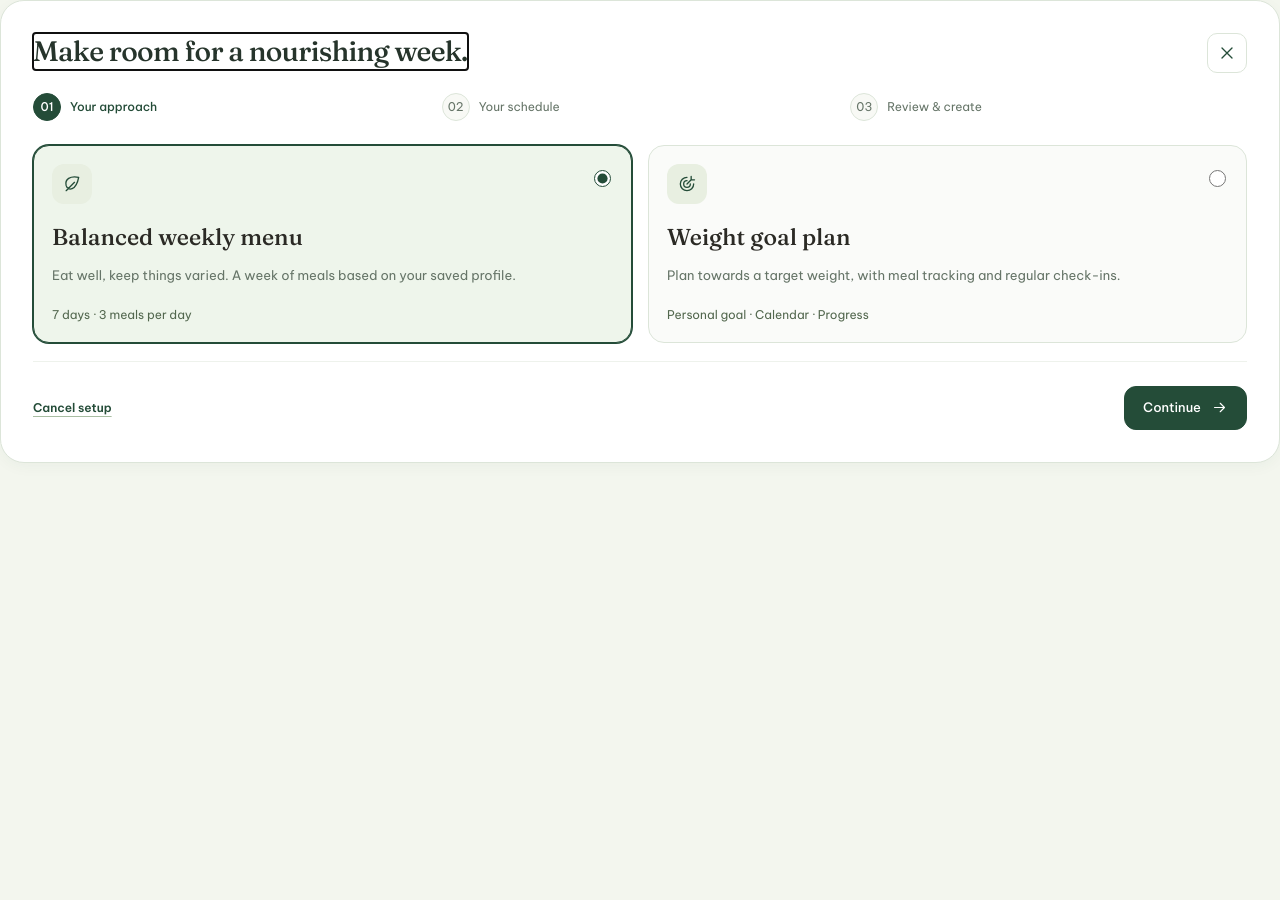
Test: PlanSetupFlow - Validation & TDEE UX (Phase 4) › 3. Continue is disabled and submit is blocked when form data is invalid
Later steps or results of the test are not shown.
Submit the form, box x1=33 y1=145 x2=1247 y2=430
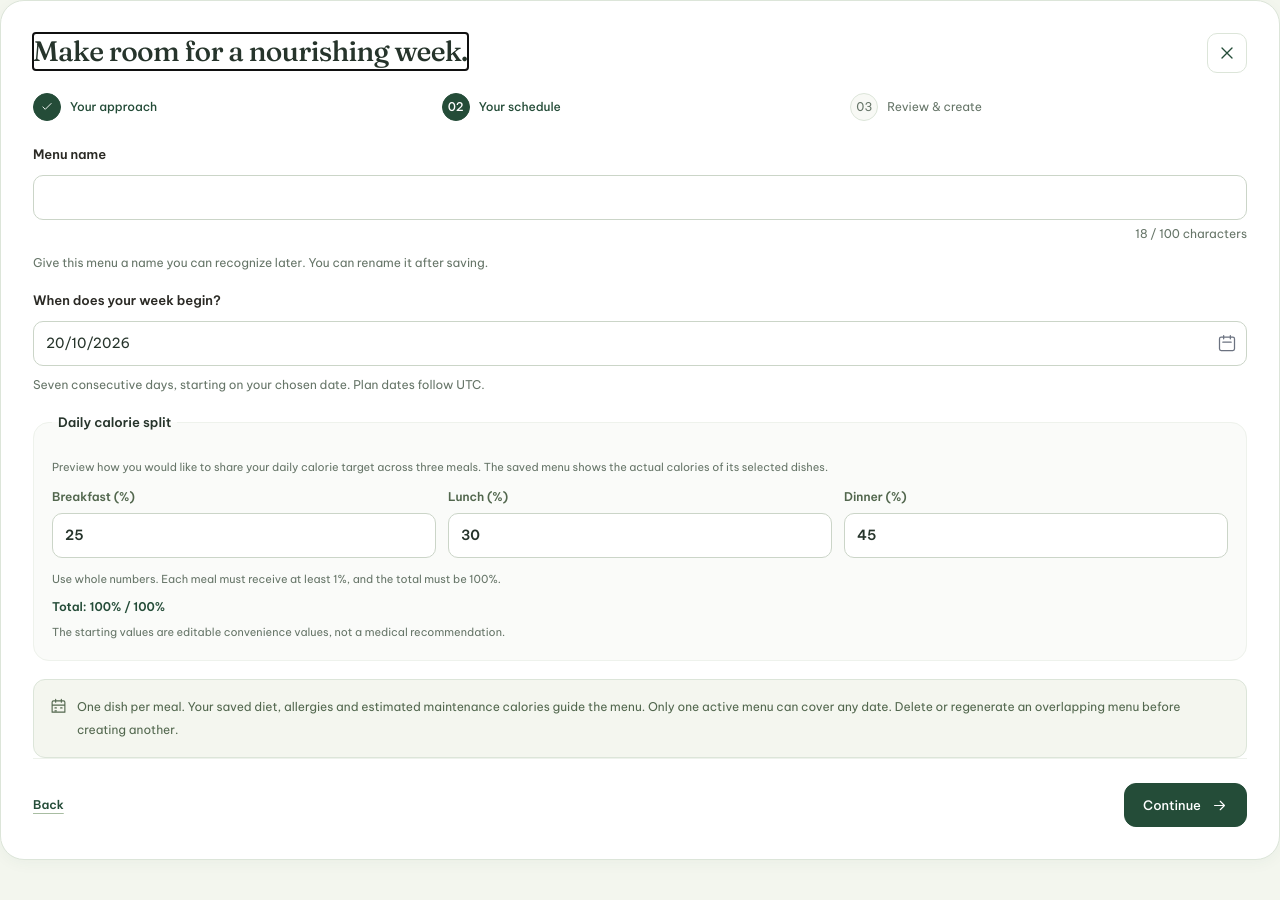
Clear the field with id "meal-plan-name" at (640, 197), box x1=33 y1=174 x2=1247 y2=220
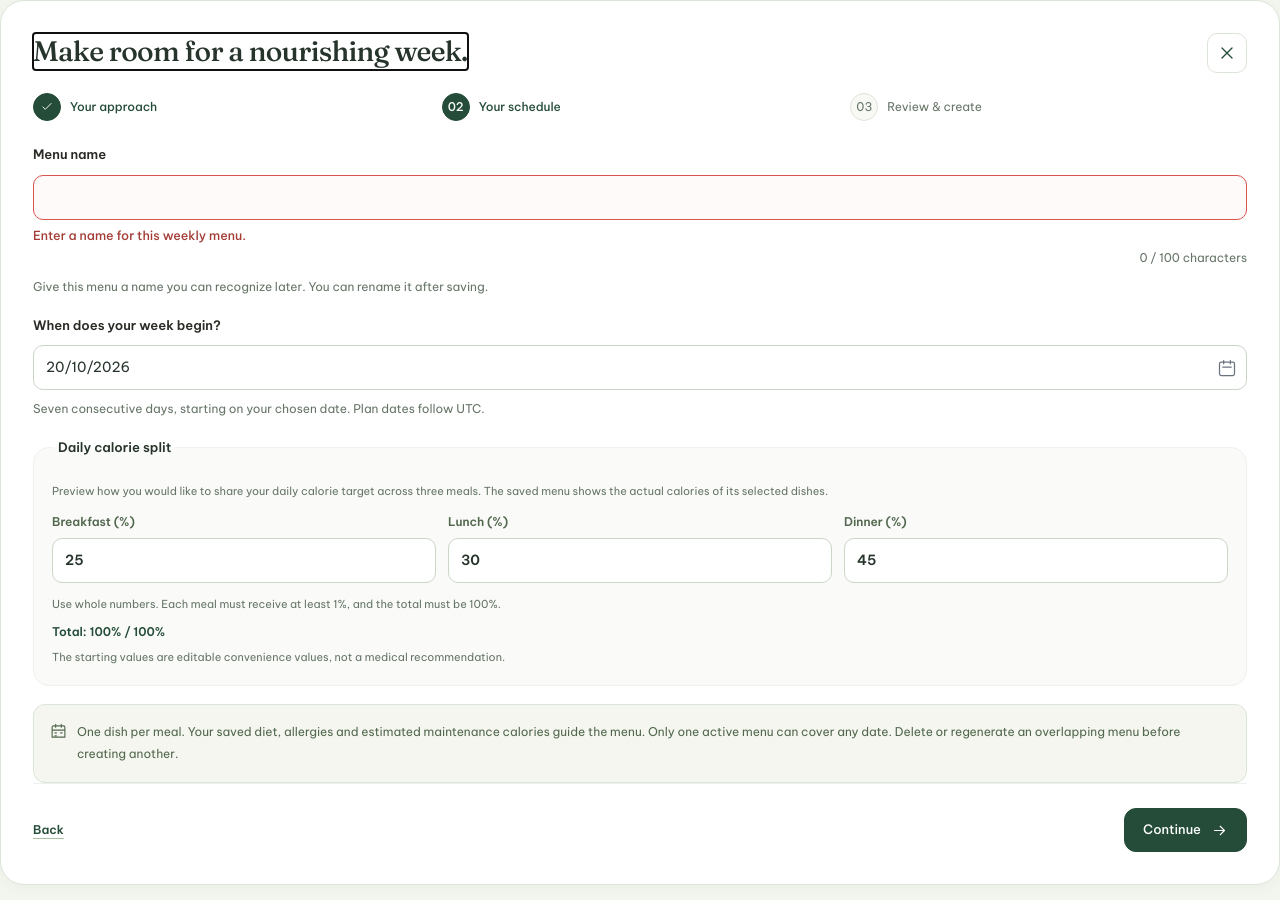
Expected: the submit button is disabled, x1=1124 y1=808 x2=1247 y2=852
